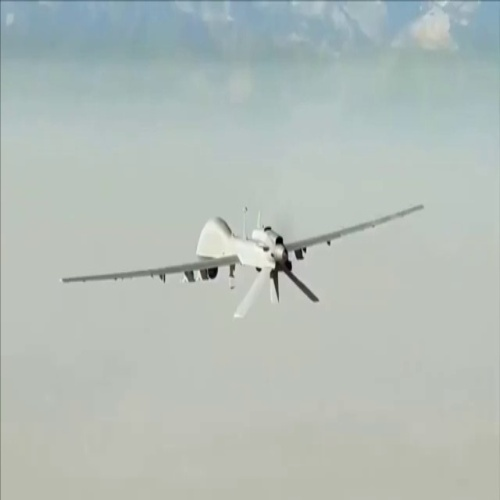uav: (57, 204, 426, 320)
